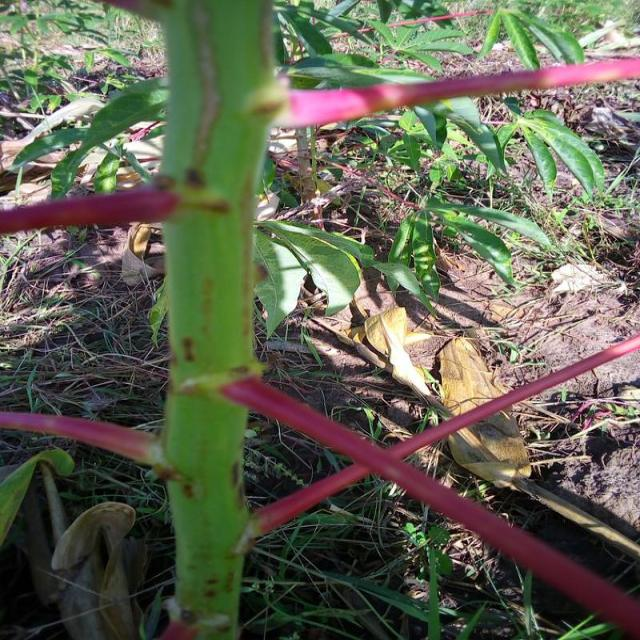cassava leaf: (435, 334, 532, 487), (252, 217, 362, 338)
